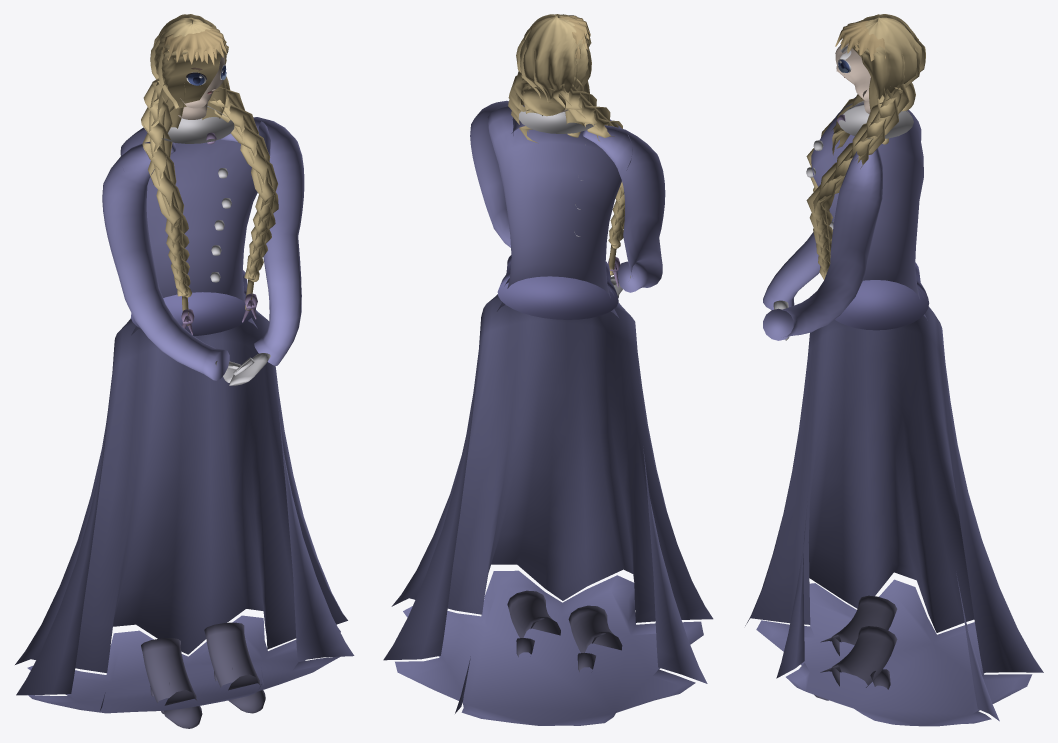
Rendered from GardenKeeper.glb.
3 views of the same model, side by side, from view 1: azimuth 30°, elevation 25°; view 2: azimuth 150°, elevation 25°; view 3: azimuth 270°, elevation 25° (orthographic). The views are drawn at different scales.
Parts seen in each view (by area): view 1: Keeper; view 2: Keeper; view 3: Keeper.
Boxes of the visible parts, x1,y1,x2,y2 form: Keeper: (15, 14, 354, 728); Keeper: (383, 14, 713, 725); Keeper: (745, 14, 1043, 726).
Bounding box in the file's own units: 0.8174 × 1.65 × 0.6615.
